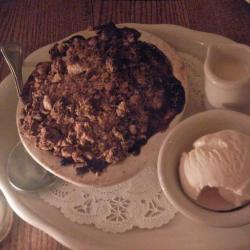icecream: (173, 123, 249, 214)
